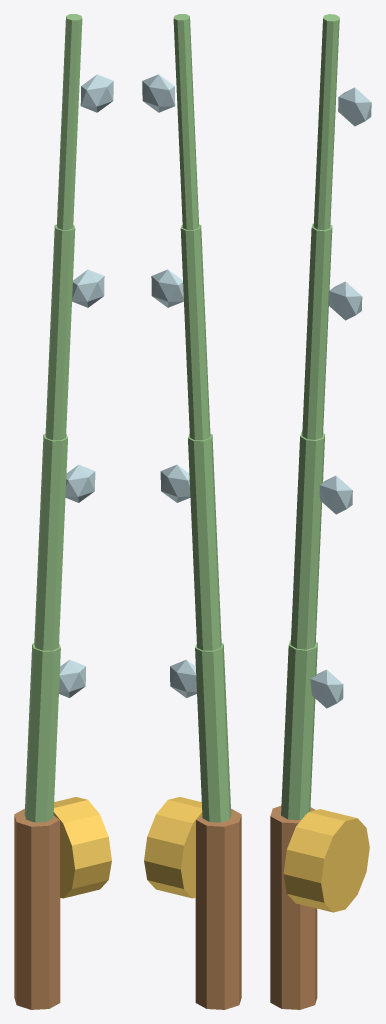
The model's file is rod_bamboo.glb.
The picture shows the model from 3 angles, left to right: view 1: azimuth 30°, elevation 25°; view 2: azimuth 150°, elevation 25°; view 3: azimuth 330°, elevation 25°; orthographic projection.
Parts seen in each view (by area): view 1: rod_bamboo; view 2: rod_bamboo; view 3: rod_bamboo.
Part boxes in pixels (bbox=[...]): rod_bamboo: bbox=[14, 14, 113, 1009]; rod_bamboo: bbox=[142, 14, 241, 1009]; rod_bamboo: bbox=[270, 14, 371, 1009].
Size of the model in its own units: 0.2108 by 2.02 by 0.18.
